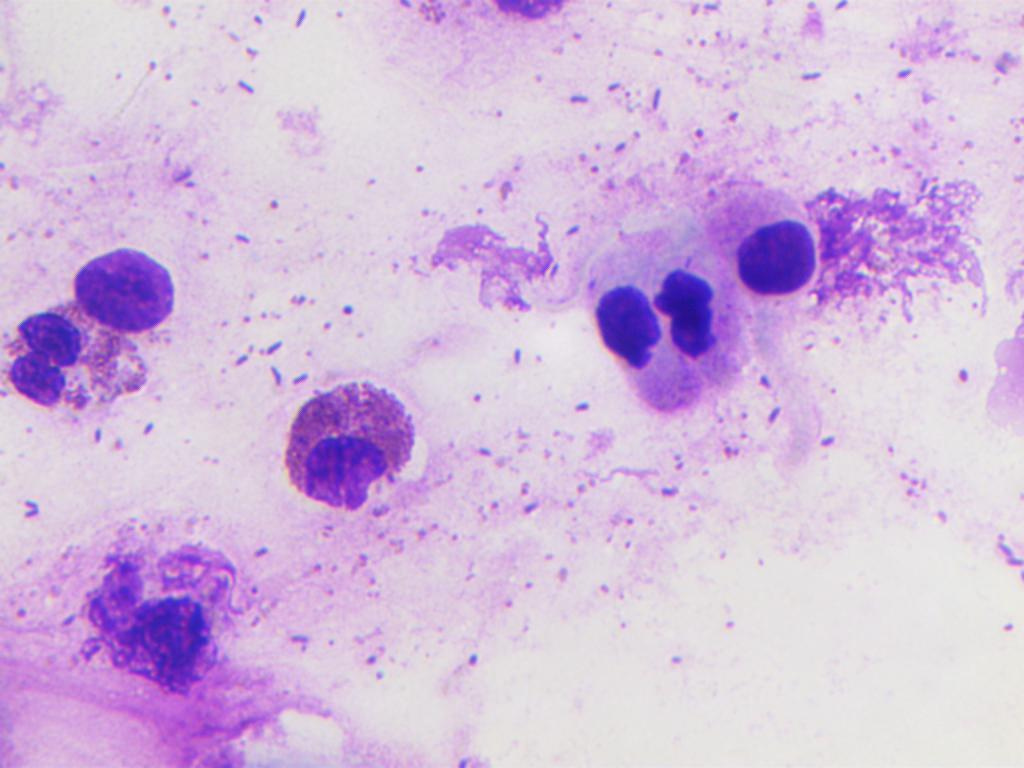eosinophil: (268, 370, 432, 539), (8, 301, 159, 422)
metaplastic: (578, 267, 731, 384), (721, 161, 819, 318), (68, 243, 180, 330)
